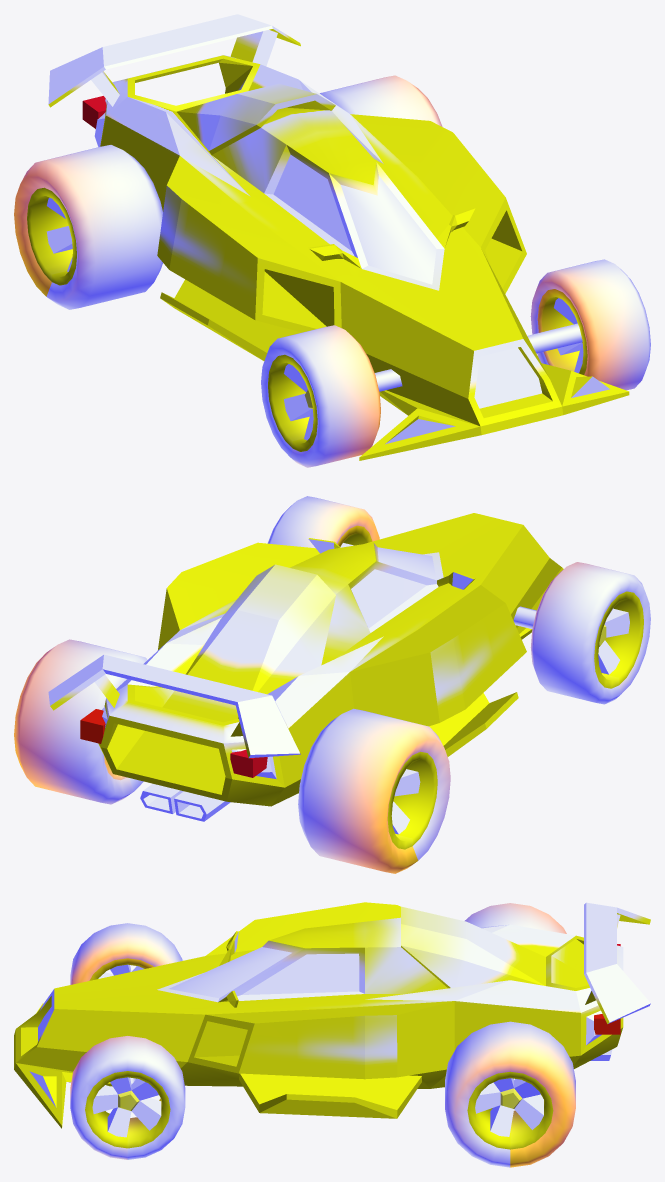
Rendered from ToyCar-yellow.glb.
The picture shows the model from 3 angles, top to bottom: view 1: azimuth 30°, elevation 25°; view 2: azimuth 150°, elevation 25°; view 3: azimuth 270°, elevation 25°; orthographic projection. The views are drawn at different scales.
Visible parts, largest first — view 1: Formula, RR_wheel, FR_wheel, FL_wheel, RL_wheel; view 2: Formula, RR_wheel, FR_wheel, RL_wheel, FL_wheel, BreakLight_R, BreakLight_L; view 3: Formula, RL_wheel, FL_wheel, FR_wheel, RR_wheel, BreakLight_L.
Part boxes in pixels (x1=…): Formula: x1=48, y1=14, x2=629, y2=460; RR_wheel: x1=14, y1=145, x2=162, y2=309; FR_wheel: x1=261, y1=325, x2=380, y2=467; FL_wheel: x1=530, y1=259, x2=650, y2=390; RL_wheel: x1=320, y1=75, x2=442, y2=126; Formula: x1=48, y1=513, x2=563, y2=821; RR_wheel: x1=298, y1=708, x2=450, y2=873; FR_wheel: x1=530, y1=562, x2=650, y2=704; RL_wheel: x1=14, y1=639, x2=147, y2=804; FL_wheel: x1=267, y1=496, x2=379, y2=548; BreakLight_R: x1=230, y1=749, x2=267, y2=777; BreakLight_L: x1=80, y1=709, x2=105, y2=743; Formula: x1=14, y1=902, x2=650, y2=1128; RL_wheel: x1=445, y1=1021, x2=575, y2=1167; FL_wheel: x1=70, y1=1036, x2=185, y2=1159; FR_wheel: x1=70, y1=923, x2=182, y2=984; RR_wheel: x1=465, y1=903, x2=566, y2=933; BreakLight_L: x1=594, y1=1014, x2=620, y2=1034.
Size of the model in its own units: 2.23 by 1.2 by 3.87.
